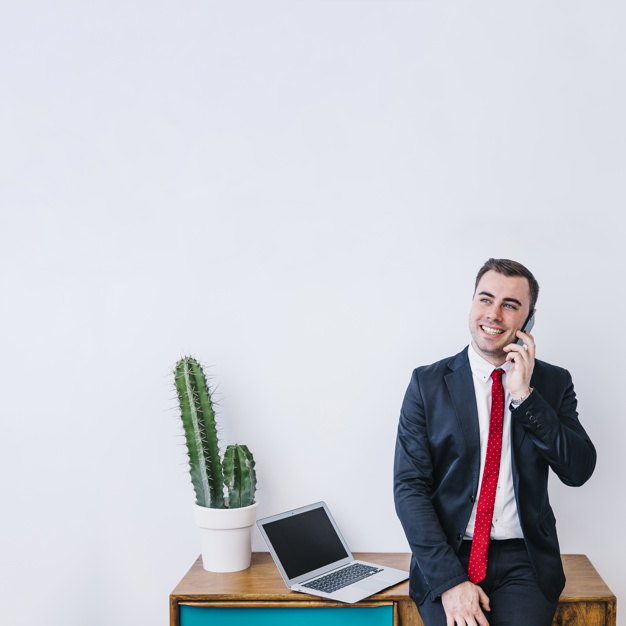phone: (504, 319, 541, 378)
talk: (472, 292, 546, 395)
